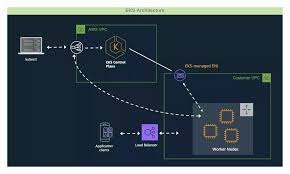auto scaling: (240, 103, 252, 117)
ec2: (223, 127, 240, 143), (220, 108, 234, 125), (204, 125, 218, 139)
eks: (105, 35, 127, 59)
elb: (143, 124, 157, 140)
